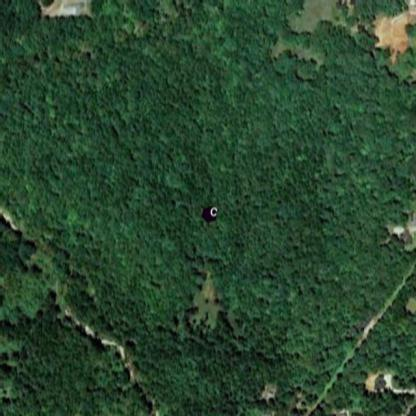C: (210, 206, 218, 218)
hexagon: (201, 203, 218, 224)
